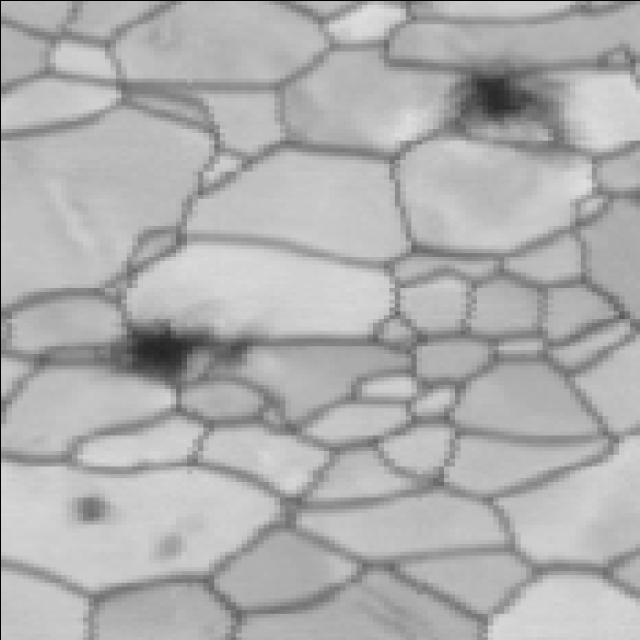good_void: (101, 313, 264, 389), (439, 54, 563, 135), (138, 528, 194, 567), (69, 488, 113, 525)
